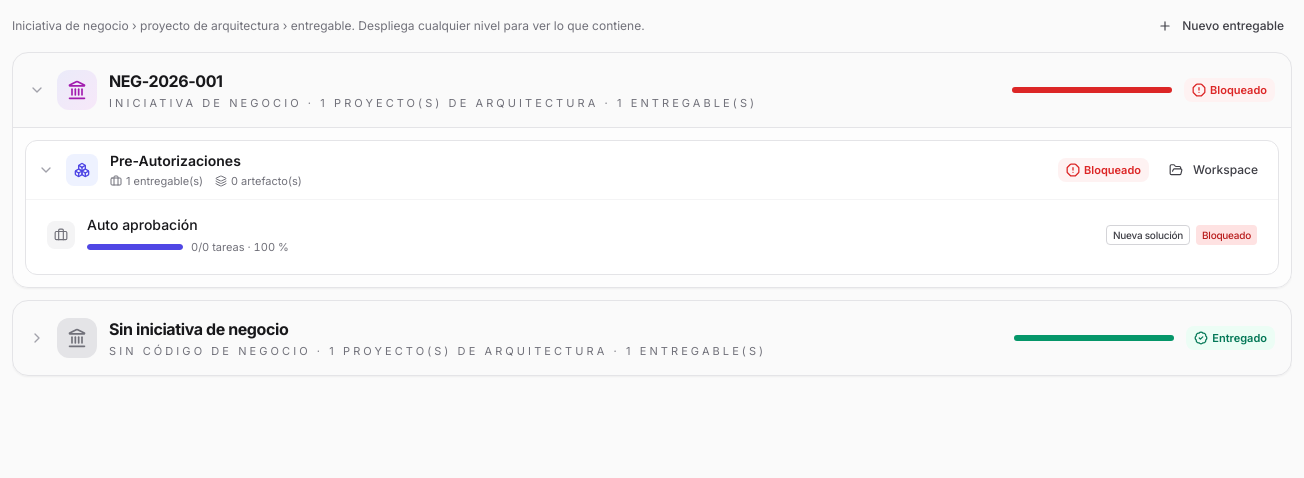
Test: PortfolioExplorer › expands a collapsed program on demand
Click the button "Sin iniciativa de negocio": (77, 338) [29,317,1002,359]
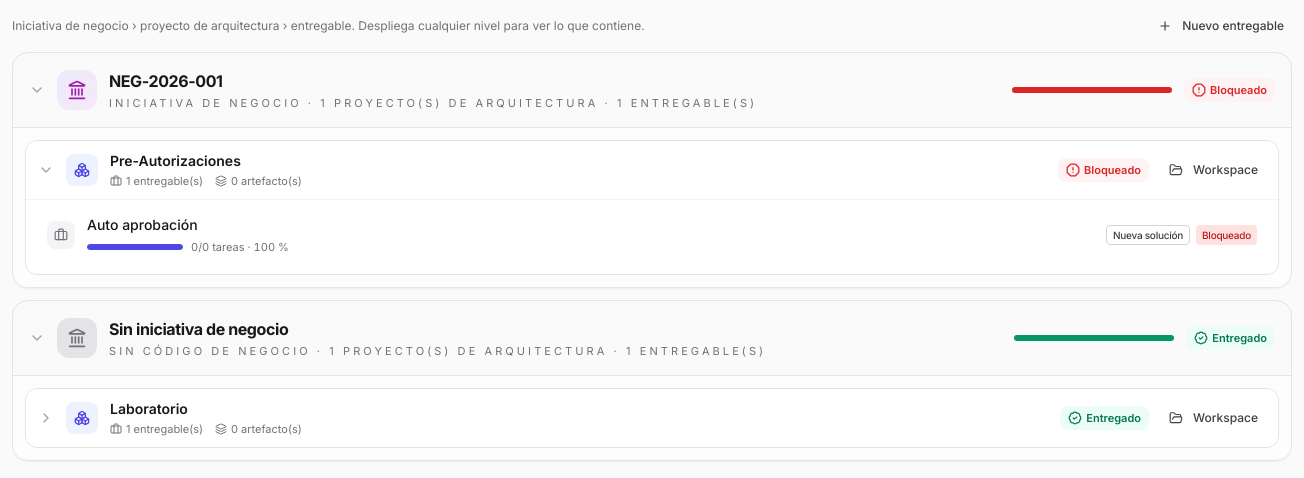
Check: the text "Laboratorio" is shown, box [110,400,188,417]
